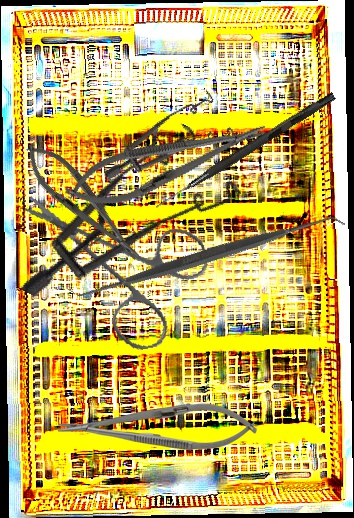Hook Surgical: (153, 89, 337, 214)
Iris Scissors: (22, 163, 223, 368)
Needle Holder: (59, 106, 274, 220), (14, 133, 151, 272), (58, 402, 257, 451)
Spatula Surgical: (68, 117, 346, 397)
Speculum: (20, 92, 258, 359), (102, 68, 248, 225)
